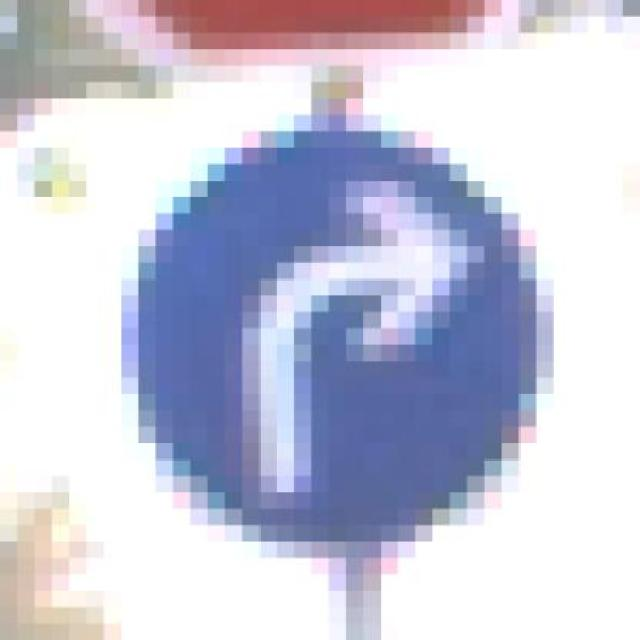Turn right ahead: (103, 99, 571, 558)
